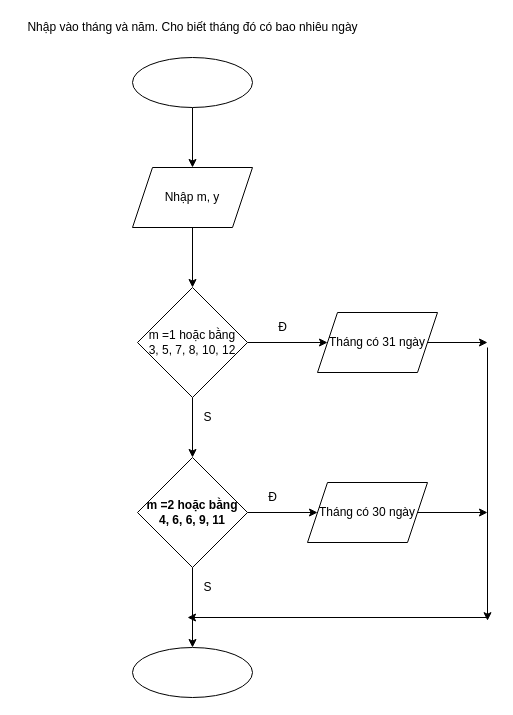
Some shapes in this 513 by 715 pixel diagram are drawn without their labels. Here are the shapes that lost their labels. From the top down, the box of each, then its label:
(132, 56, 252, 108): Start
(132, 646, 252, 698): End
